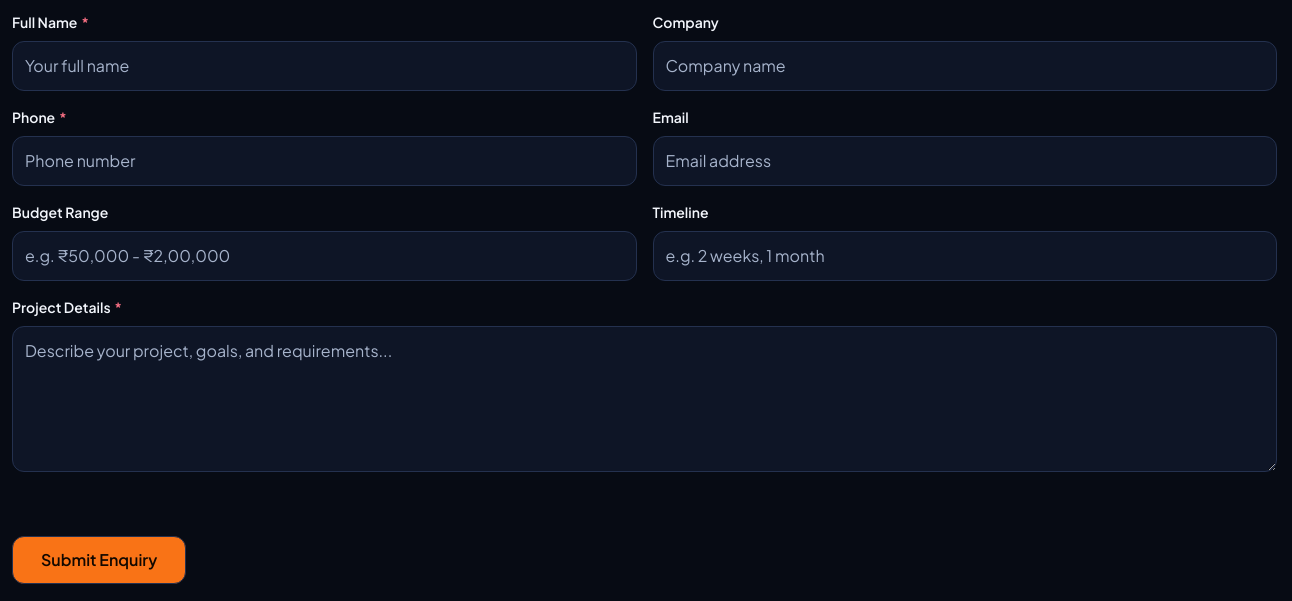
failed submit (Requirements 7.12, 11.7, 11.9) › keeps every value, re-enables submit, and reports the failure once
The image size is (1292, 601).
Type "Ada Lovelace" into the field labelled "Full Name *".
click(324, 66); type("Ada Lovelace")  # box [12, 41, 636, 91]
Type "Analytical Engines" into the field labelled "Company".
click(965, 66); type("Analytical Engines")  # box [652, 41, 1277, 91]
Type "9876543210" into the field labelled "Phone *".
click(324, 161); type("9876543210")  # box [12, 136, 636, 186]
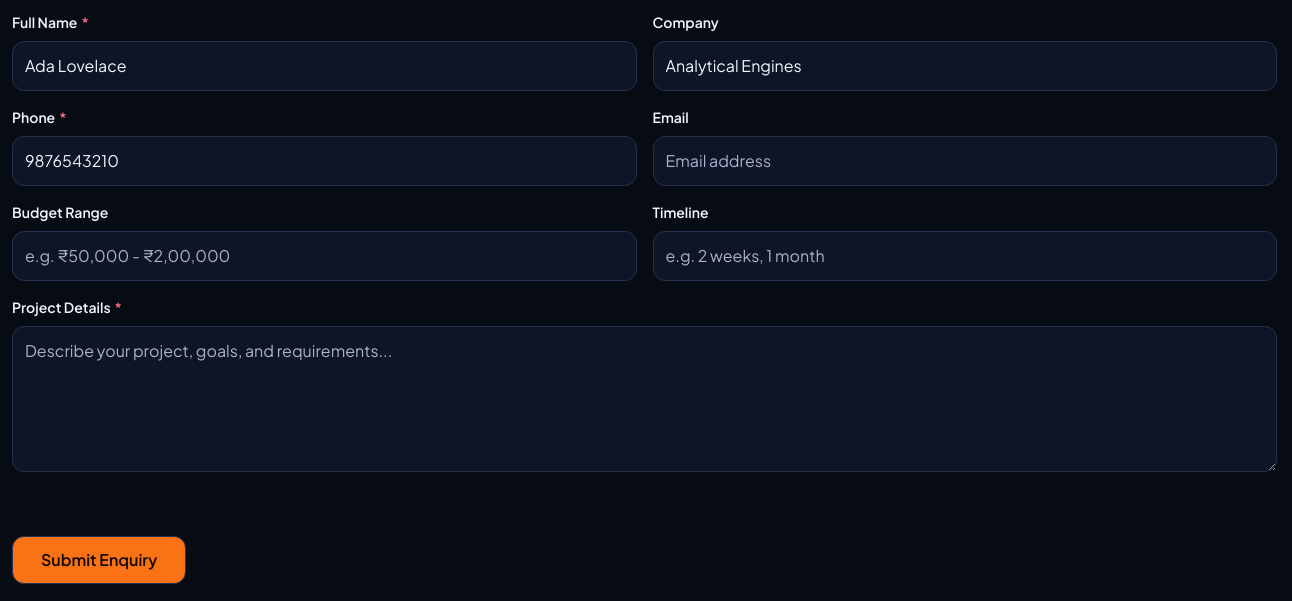
Type "ada@example.com" into the field labelled "Email".
click(965, 161); type("ada@example.com")  # box [652, 136, 1277, 186]
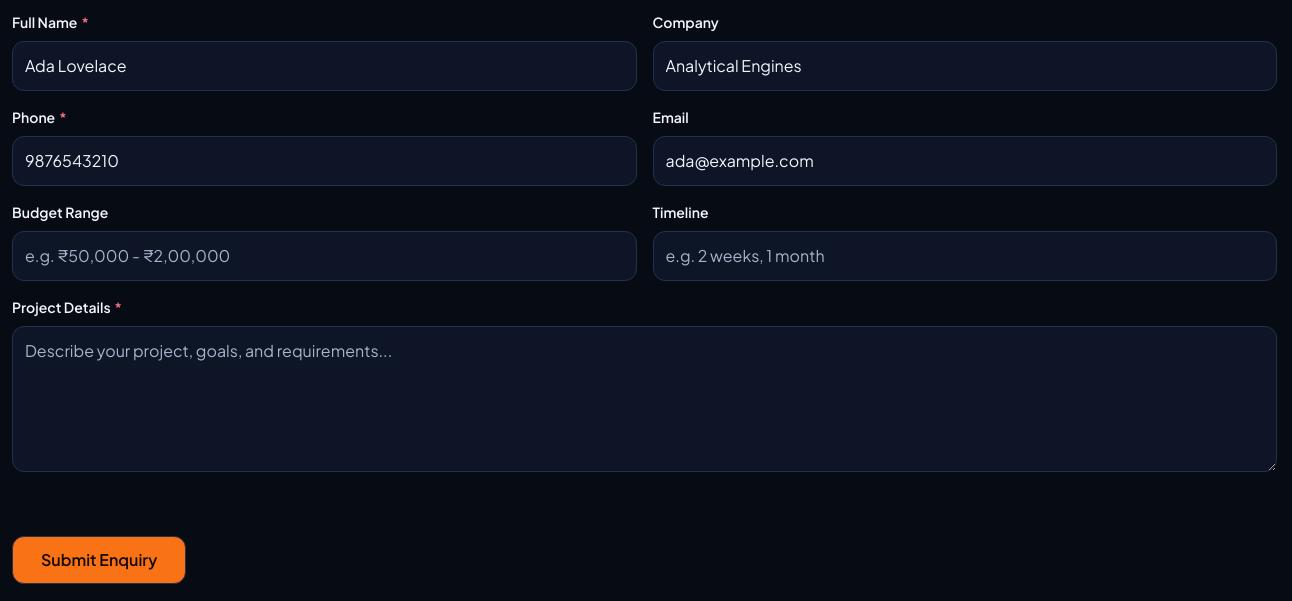
Type "2,00,000" into the field labelled "Budget Range".
click(324, 256); type("2,00,000")  # box [12, 231, 636, 281]
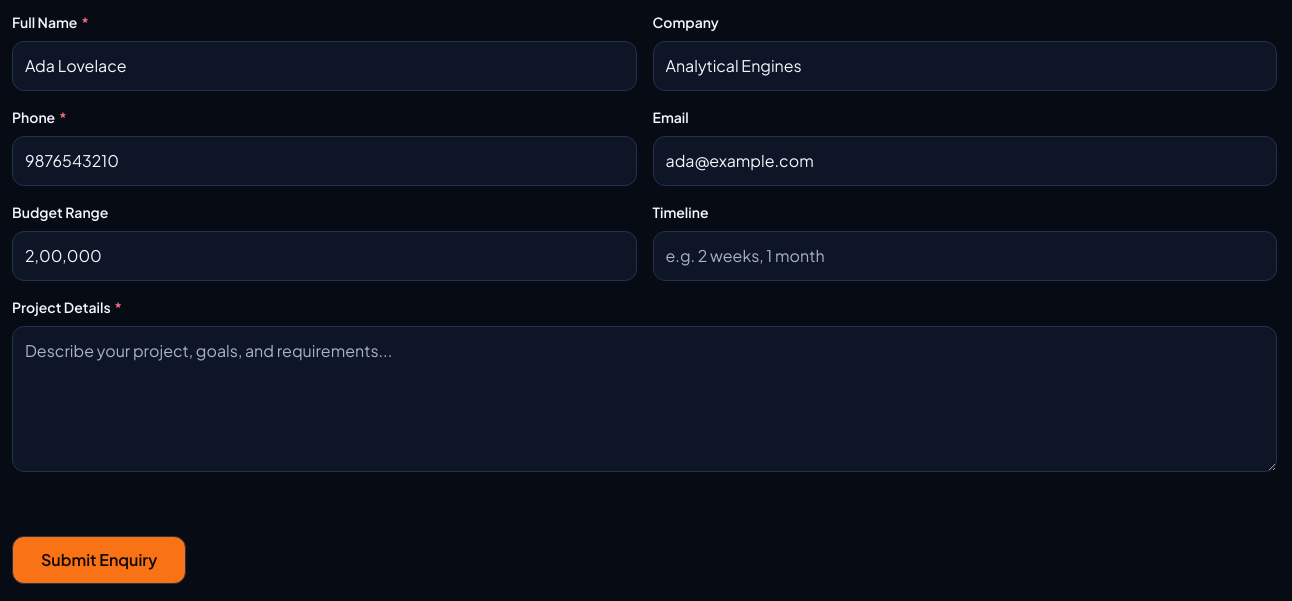
Type "3 weeks" into the field labelled "Timeline".
click(965, 256); type("3 weeks")  # box [652, 231, 1277, 281]
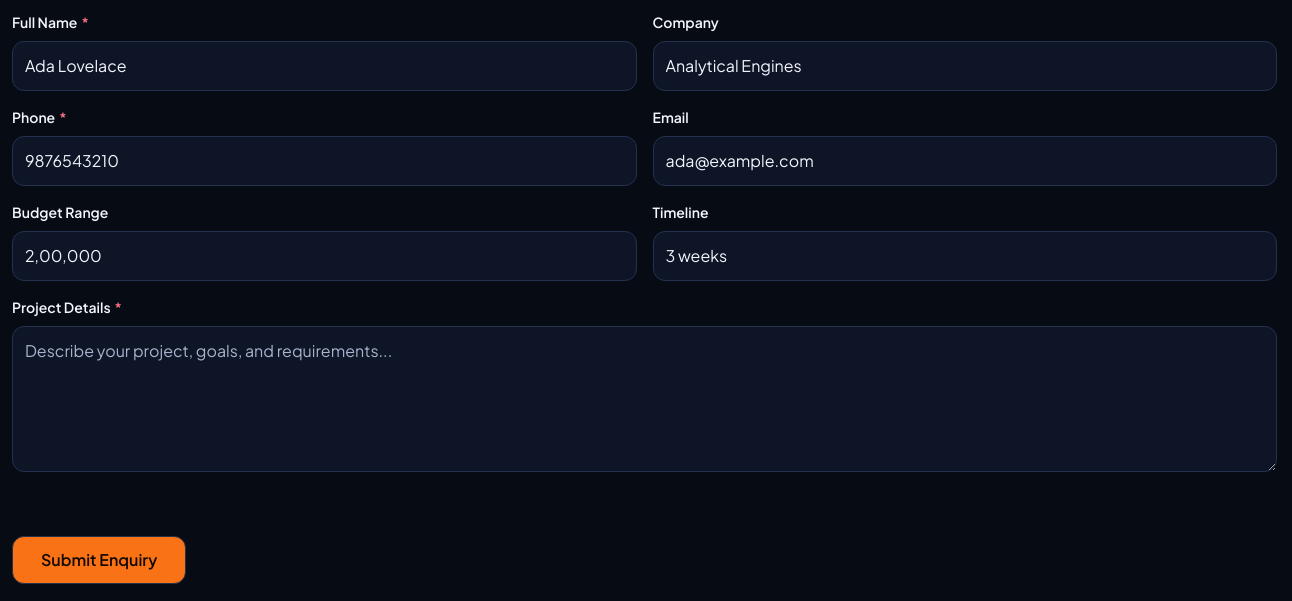
Type "A dashboard for engine telemetry." into the text box labelled "Project Details *".
click(644, 399); type("A dashboard for engine telemetry.")  # box [12, 326, 1277, 472]
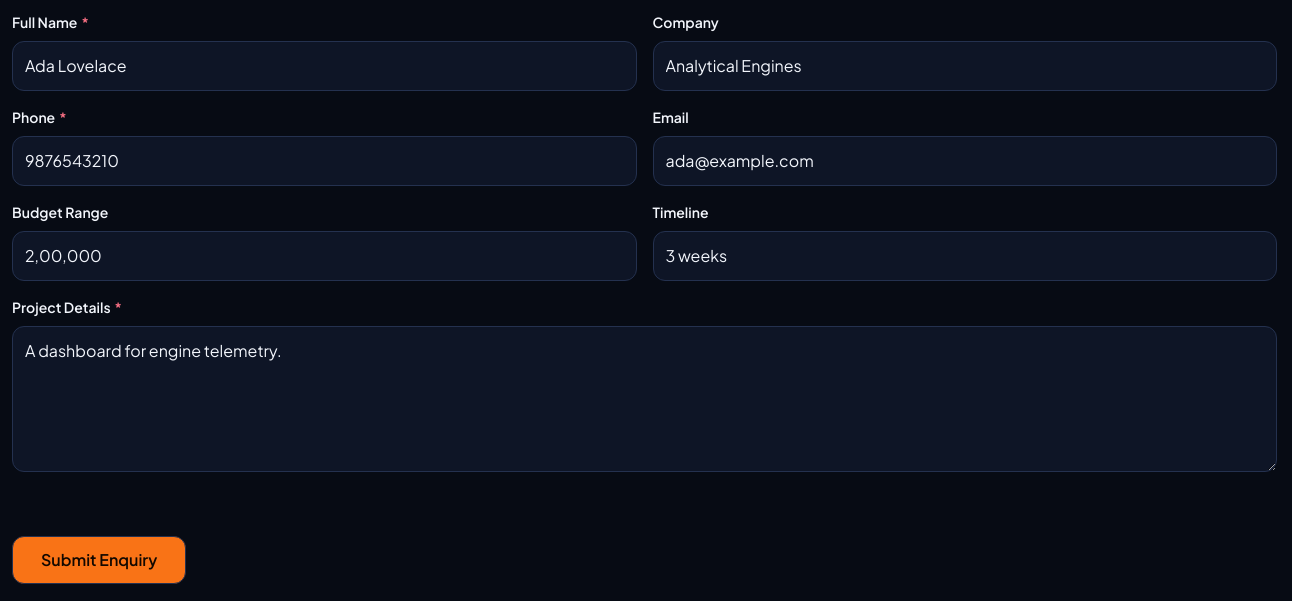
Click the button "Submit Enquiry".
click(99, 560)  # box [12, 536, 186, 584]
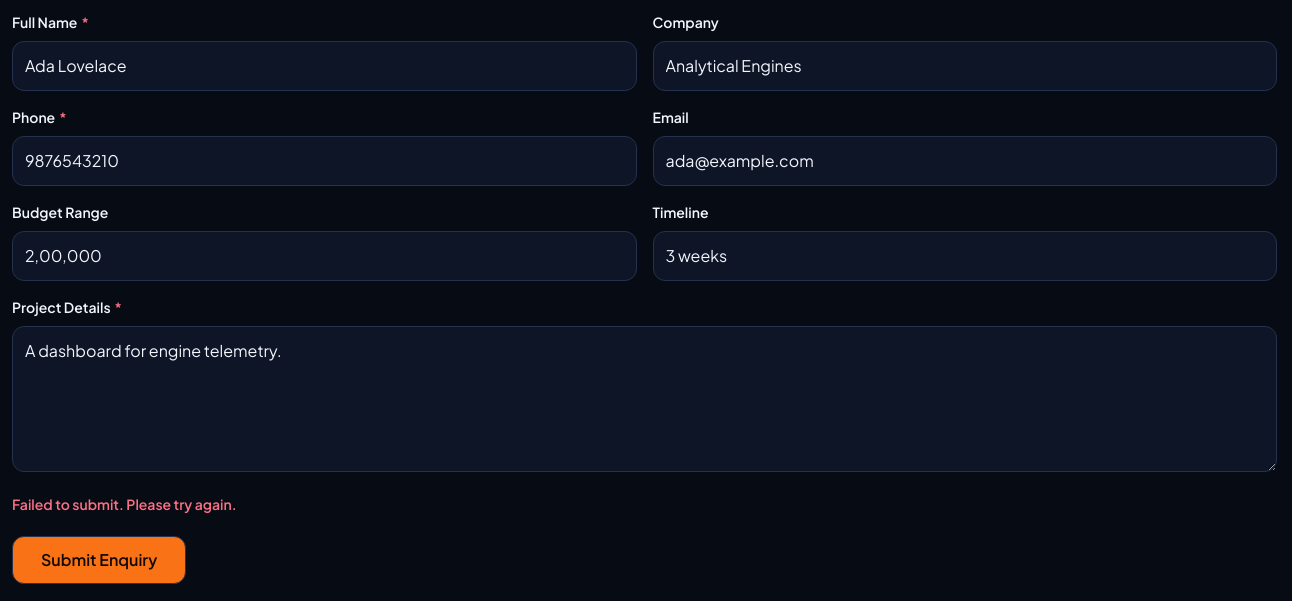
Expected: the message reads "Failed to submit. Please try again.", [12, 494, 237, 512]
